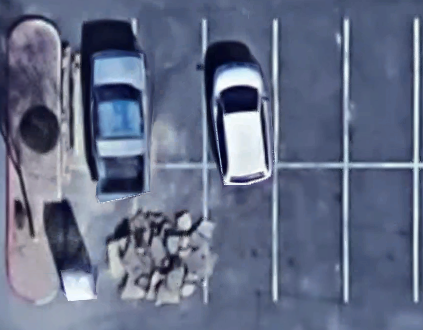Occupied: (61, 21, 134, 165), (204, 20, 276, 166), (134, 20, 205, 165), (61, 164, 134, 304), (133, 164, 205, 304), (204, 165, 276, 302)
Vacant: (275, 21, 346, 165), (345, 21, 416, 165), (345, 165, 416, 304), (275, 165, 346, 303)
